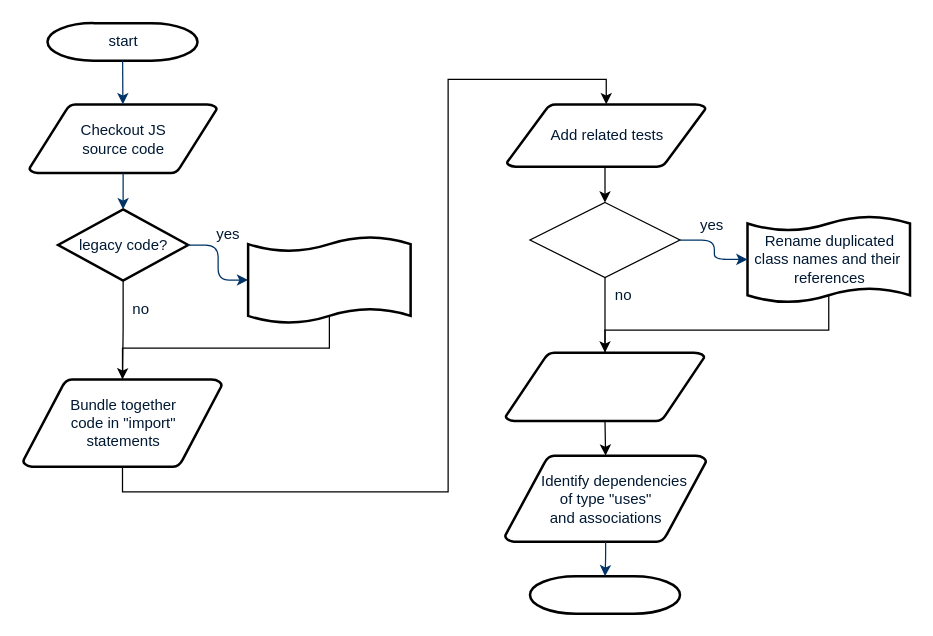
Image size: 933x636. Some labels were removed from this diagram. The shapes that lost their labels are listed below. From the top down, each one's centre as x and y in pixels, then its label:
At [604,239]: "duplicated class names?".
At [328,279]: "Identify classes".
At [604,386]: "Use Flow to infer types".
At [604,594]: "end".
